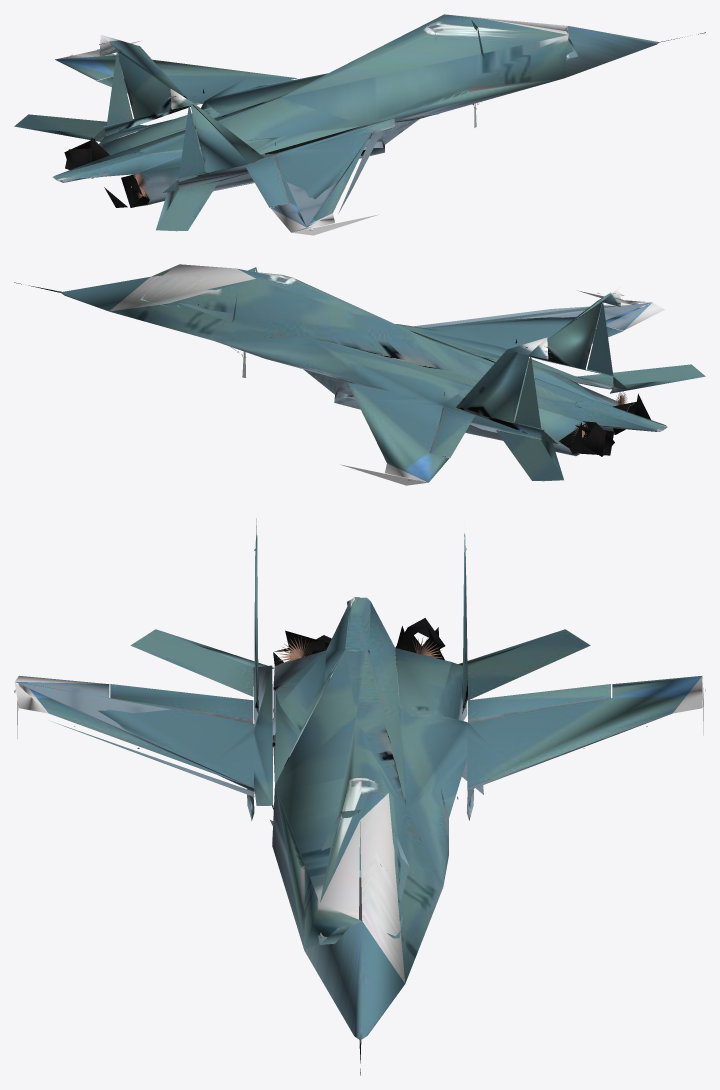
3 views of the same model, one above another, from view 1: azimuth 30°, elevation 25°; view 2: azimuth 150°, elevation 25°; view 3: azimuth 270°, elevation 25° (orthographic). The views are drawn at different scales.
Visible parts, largest first — view 1: g_su34_hull; view 2: g_su34_hull; view 3: g_su34_hull.
Boxes of the visible parts, x1,y1,x2,y2 form: g_su34_hull: [14, 14, 705, 235]; g_su34_hull: [14, 264, 705, 485]; g_su34_hull: [14, 518, 705, 1075].
Size of the model in its own units: 22.89 by 5.01 by 14.56.
2 materials, 1 textured.
